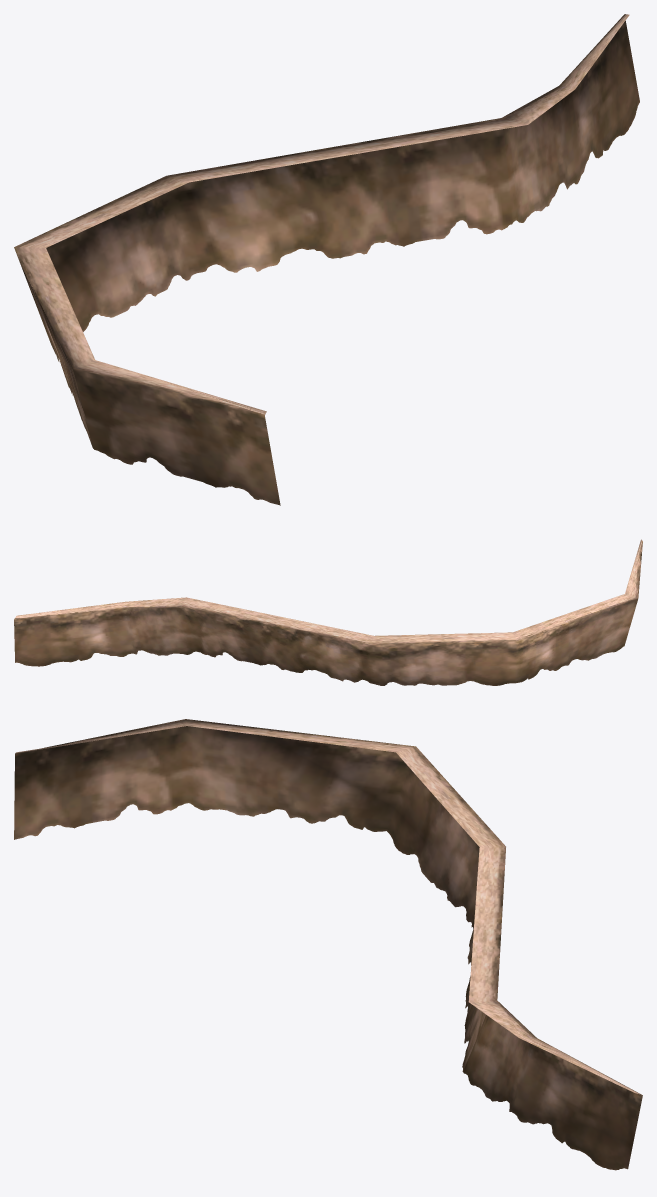
File: EKH_GROTTO_PS_GR_LINE07.fbx
3 renders of one model, top to bottom at view 1: azimuth 30°, elevation 25°; view 2: azimuth 150°, elevation 25°; view 3: azimuth 270°, elevation 25°, orthographic. The views are drawn at different scales.
Parts seen in each view (by area): view 1: EKH_GROTTO_PS_GR_LINE07; view 2: EKH_GROTTO_PS_GR_LINE07; view 3: EKH_GROTTO_PS_GR_LINE07.
Boxes of the visible parts, x1,y1,x2,y2 form: EKH_GROTTO_PS_GR_LINE07: (14,14,639,505); EKH_GROTTO_PS_GR_LINE07: (14,539,642,685); EKH_GROTTO_PS_GR_LINE07: (14,719,642,1170).
Bounding box in the file's own units: 49008 × 8316 × 37760.
1 material, 1 textured.
